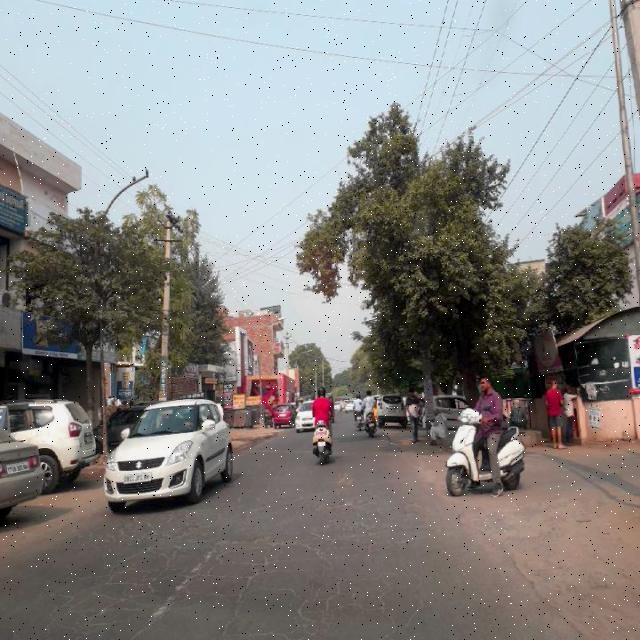D20: (214, 490, 428, 639), (49, 516, 210, 639)
D40: (452, 500, 552, 568)
D44: (137, 549, 216, 633)
